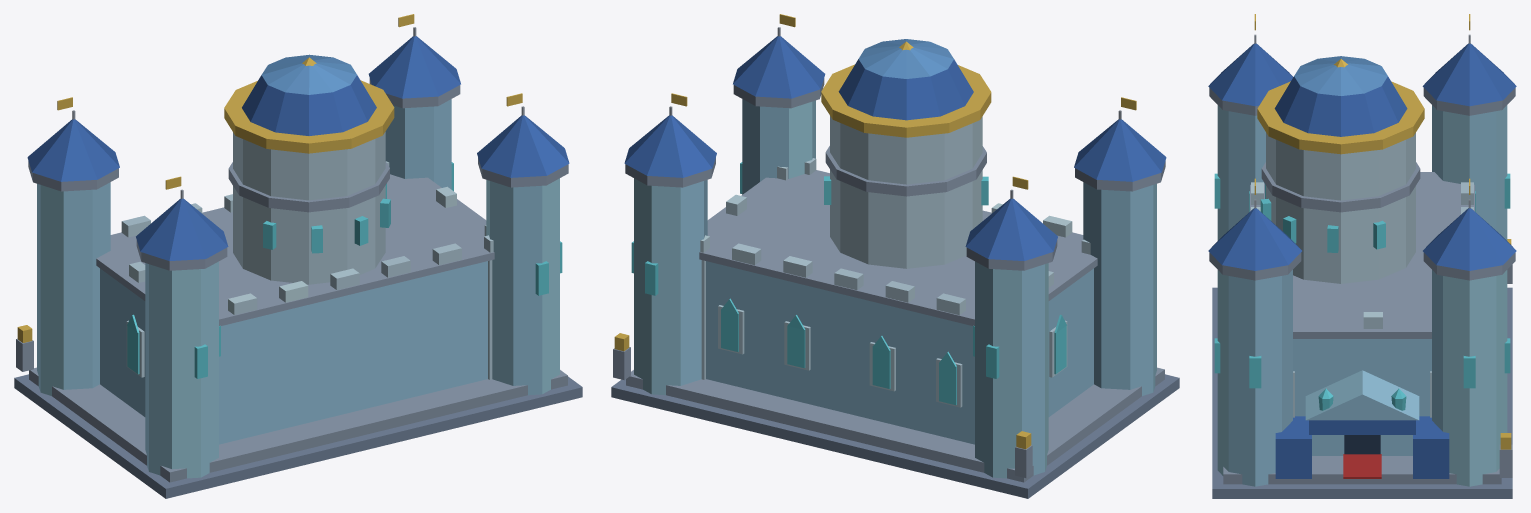
Rendered from Decor_IcePalace_Palace.fbx.
3 views of the same model, side by side, from view 1: azimuth 30°, elevation 25°; view 2: azimuth 150°, elevation 25°; view 3: azimuth 270°, elevation 25° (orthographic).
Parts seen in each view (by area): view 1: Palace_Body; view 2: Palace_Body; view 3: Palace_Body.
Part boxes in pixels (x1,y1,x2,y2): Palace_Body: [14, 14, 582, 498]; Palace_Body: [611, 14, 1179, 498]; Palace_Body: [1208, 14, 1516, 498].
Size of the model in its own units: 44 by 34 by 28.
